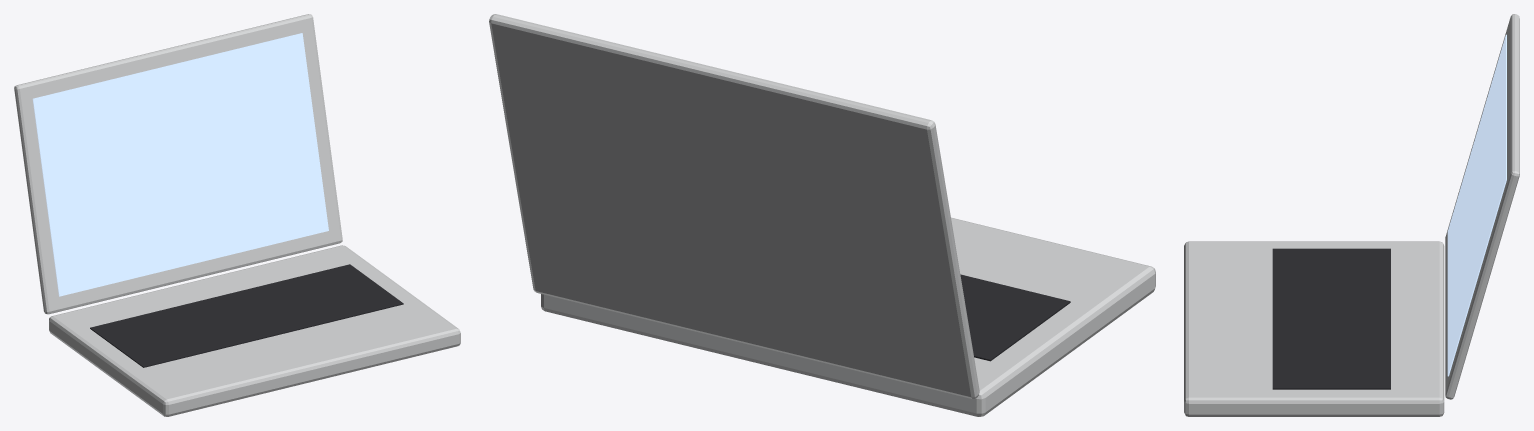
Rendered from laptop.glb.
3 renders of one model, left to right at view 1: azimuth 30°, elevation 25°; view 2: azimuth 150°, elevation 25°; view 3: azimuth 270°, elevation 25°, orthographic. The views are drawn at different scales.
Parts seen in each view (by area): view 1: Screen, Base, Lid, Keys; view 2: Lid, Base, Keys; view 3: Base, Keys, Screen, Lid.
Boxes of the visible parts, x1,y1,x2,y2 form: Screen: (32,33,328,296); Base: (49,245,460,416); Lid: (14,14,342,314); Keys: (90,264,403,367); Lid: (489,14,979,398); Base: (541,217,1155,416); Keys: (960,274,1070,361); Base: (1184,241,1444,416); Keys: (1272,248,1390,389); Screen: (1447,34,1506,376); Lid: (1445,14,1519,399).
Size of the model in its own units: 0.32 by 0.2297 by 0.2839.
